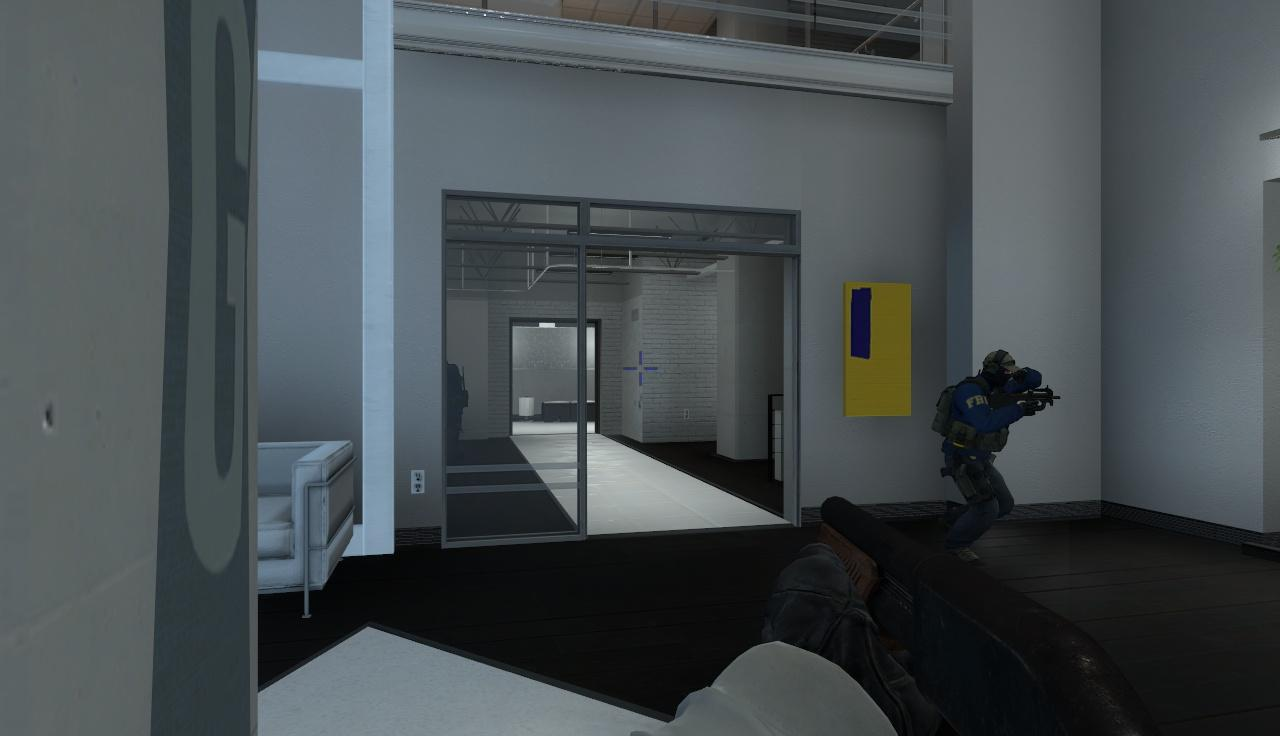ct: (946, 347, 1039, 553), (444, 359, 467, 464)
cthead: (983, 347, 1017, 384)
shotgun: (802, 491, 1160, 736)
